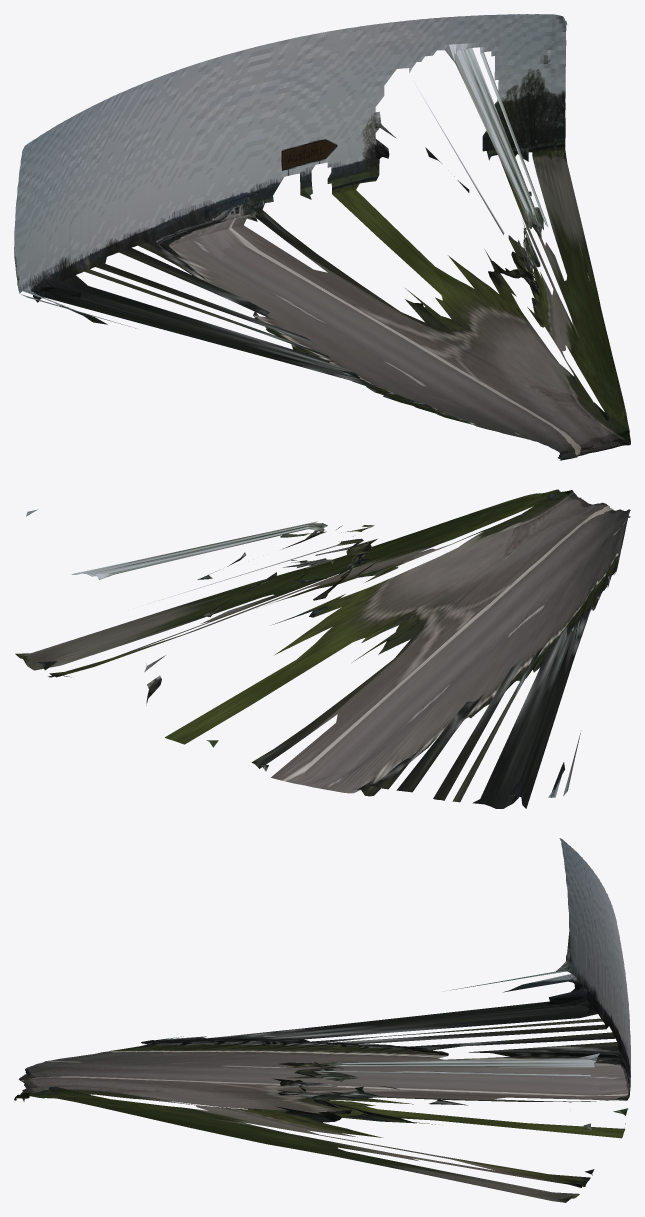
3 renders of one model, top to bottom at view 1: azimuth 30°, elevation 25°; view 2: azimuth 150°, elevation 25°; view 3: azimuth 270°, elevation 25°, orthographic. The views are drawn at different scales.
Parts seen in each view (by area): view 1: defaultobject; view 2: defaultobject; view 3: defaultobject.
Boxes of the visible parts, <box> form: defaultobject: <box>14,14,630,460</box>; defaultobject: <box>15,489,630,808</box>; defaultobject: <box>14,838,630,1202</box>.
Size of the model in its own units: 41.16 by 13.1 by 44.73.
Materials: 1 (1 with a texture image).
